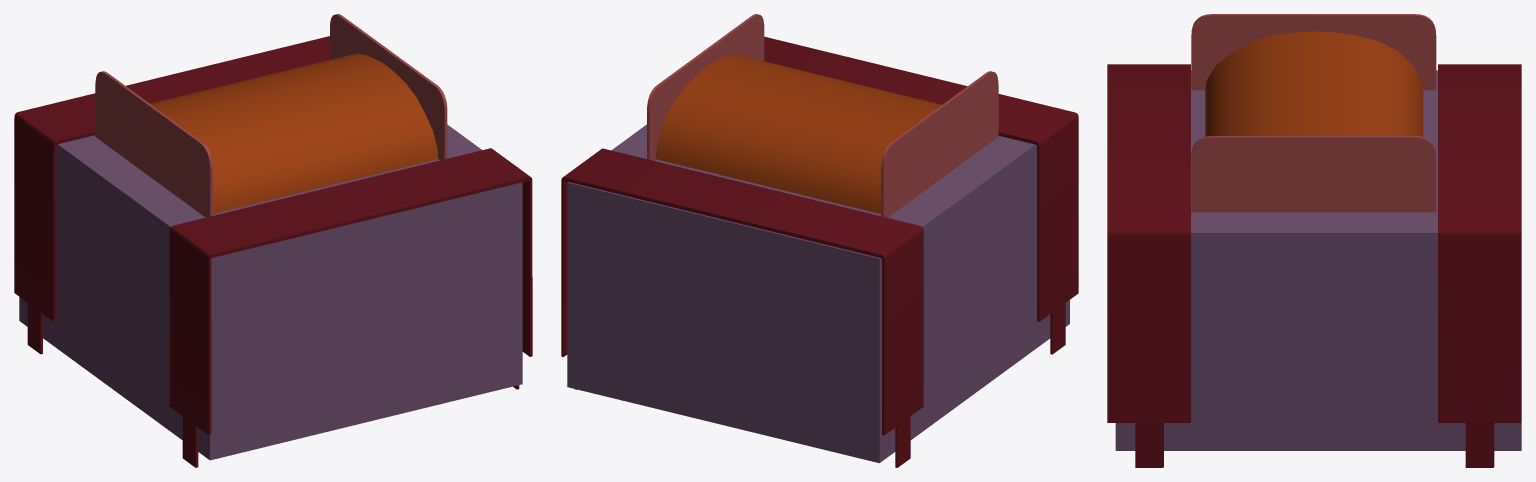
File: transf1.fbx
3 views of the same model, side by side, from view 1: azimuth 30°, elevation 25°; view 2: azimuth 150°, elevation 25°; view 3: azimuth 270°, elevation 25° (orthographic). The views are drawn at different scales.
Parts seen in each view (by area): view 1: transf1_LOD0; view 2: transf1_LOD0; view 3: transf1_LOD0.
Part boxes in pixels (left/top/right/bottom): transf1_LOD0: left=14, top=14, right=532, bottom=467; transf1_LOD0: left=561, top=14, right=1078, bottom=467; transf1_LOD0: left=1107, top=14, right=1521, bottom=467.
Size of what is drawn, in the model's own units: 4.29 by 3.65 by 4.47.
